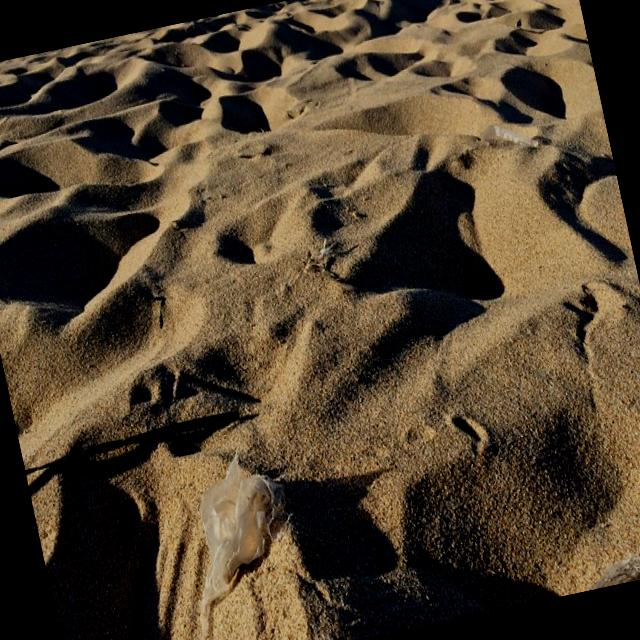Trash: (169, 444, 307, 614), (25, 391, 244, 476)
